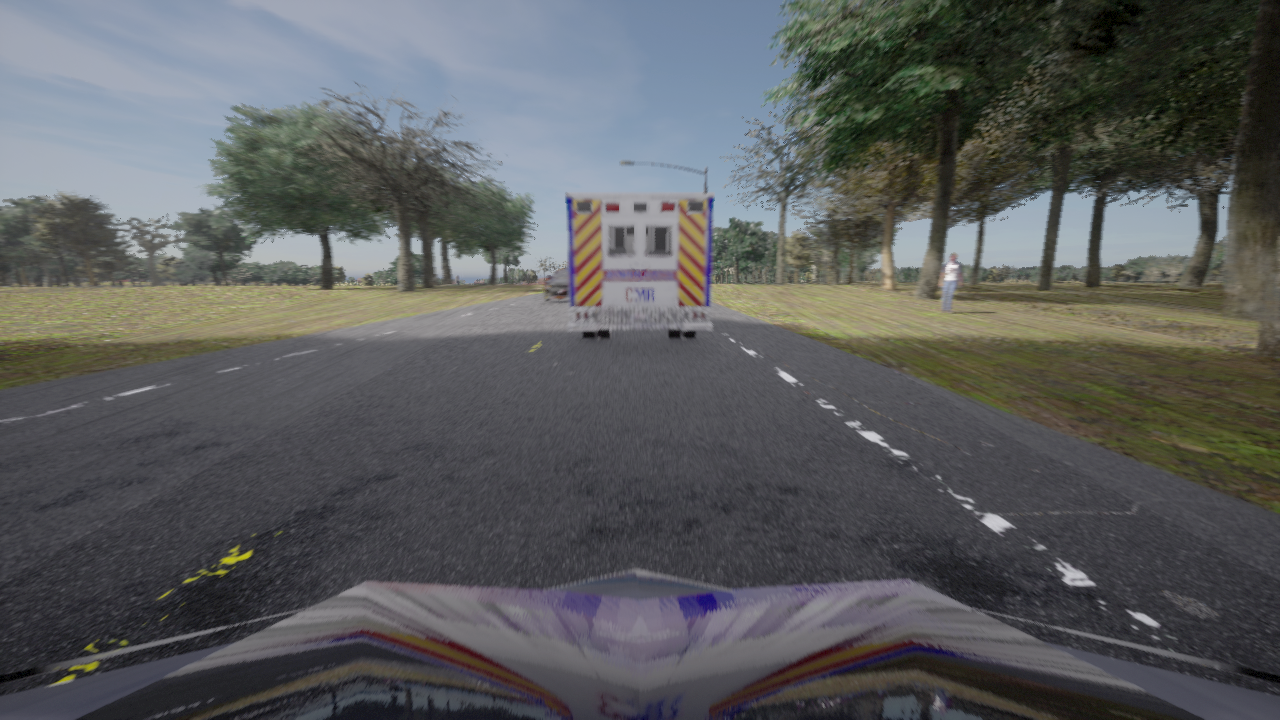cyclist: (0, 570, 1279, 719), (566, 193, 713, 338), (544, 269, 568, 301)
pedestrian: (939, 253, 962, 313)
